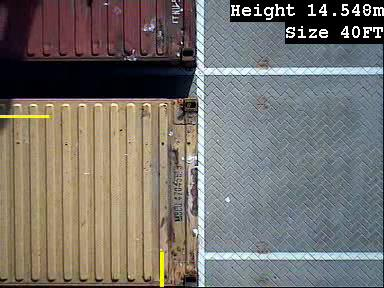groundmarker_2: (189, 136, 282, 247)
